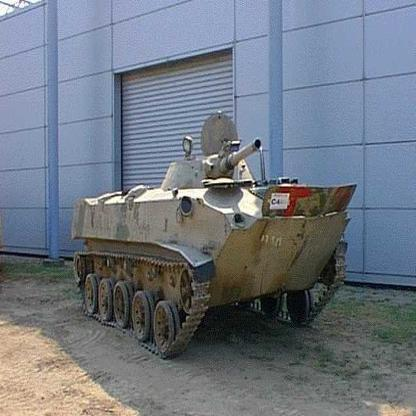Tank: (69, 109, 357, 366)
